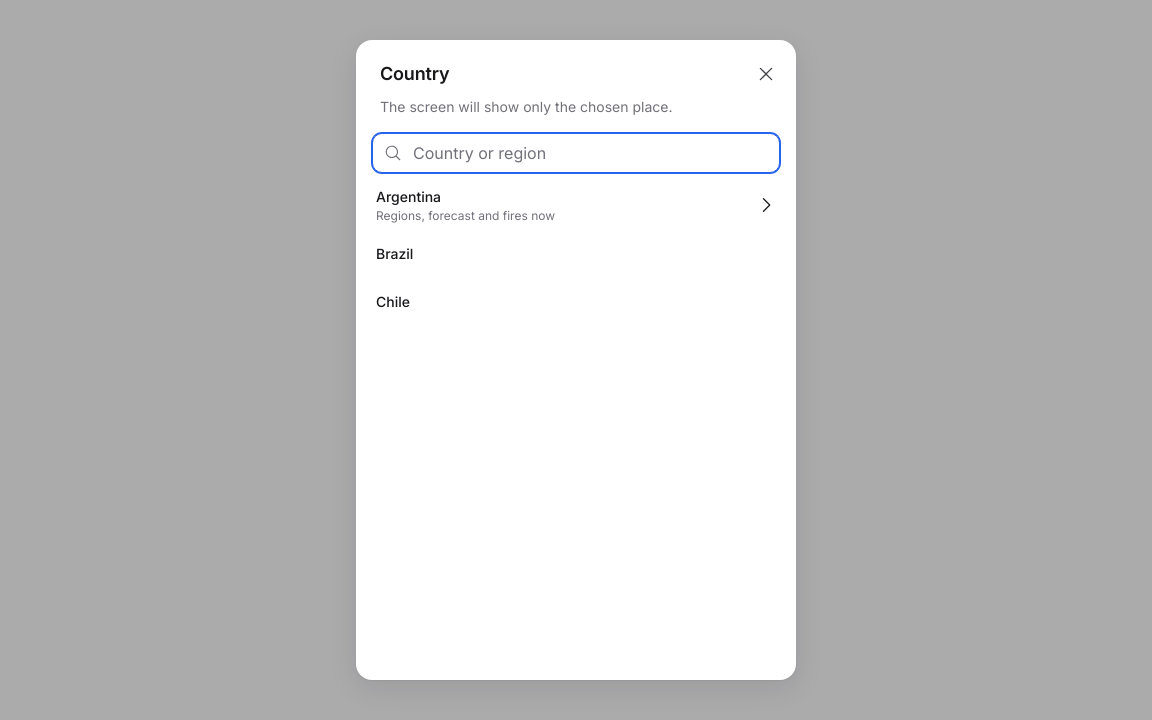
Test: RegionDialog › opens a second step for a country with provinces, with a visible way back to all countries
The width and height of the screenshot is (1152, 720).
Later steps or results of the test are not shown.
Click the option "Argentina Regions, forecast and fires now" at (409, 196), box [364,181,788,229]
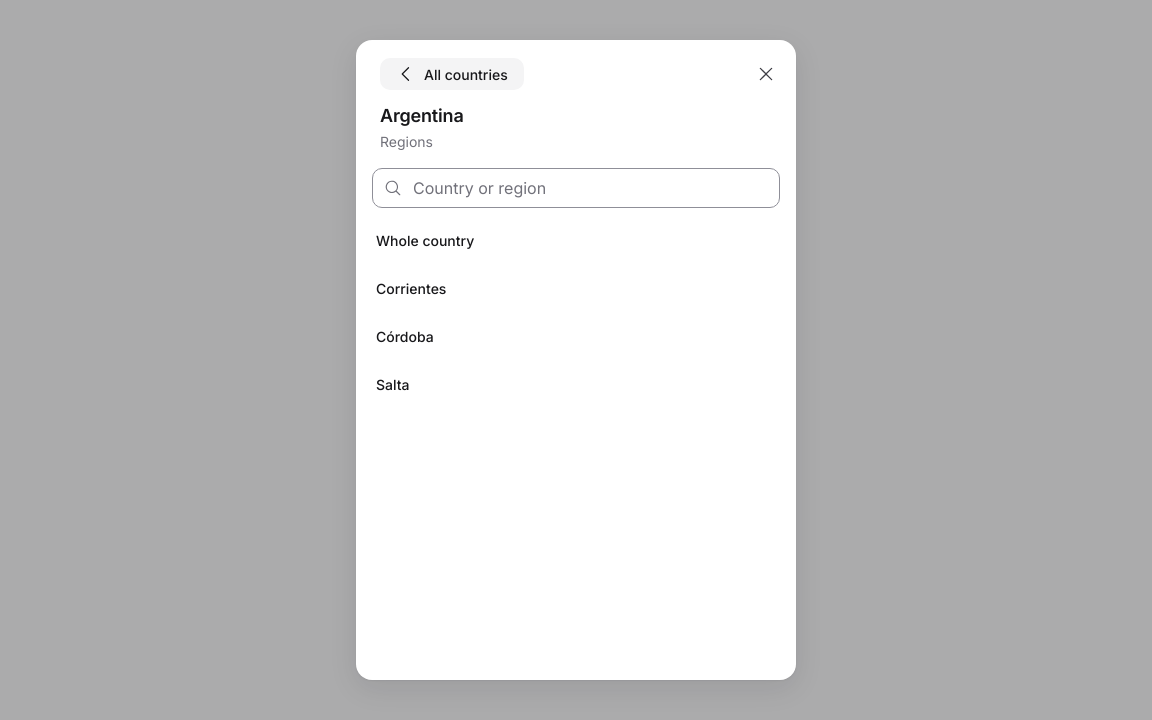
Check: the button "All countries" is shown, box [380,58,524,90]
Check: the option "Whole country" is shown, box [364,216,788,264]
Check: the option "Salta" is shown, box [364,360,788,408]
